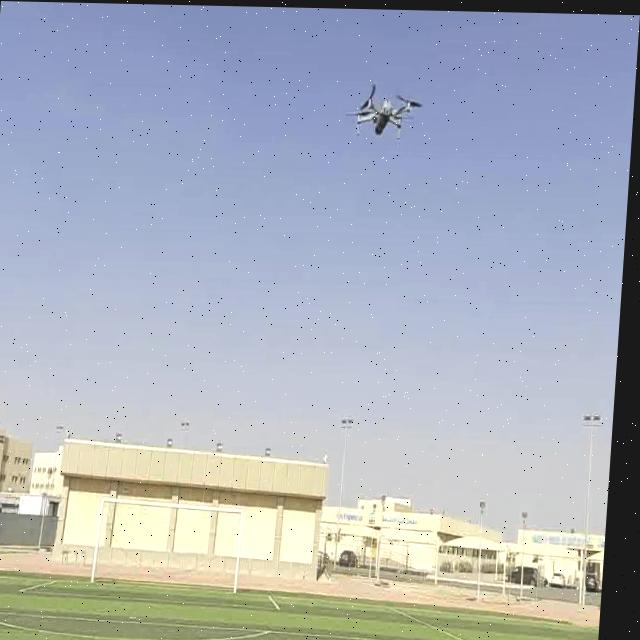drone: (345, 77, 426, 142)
